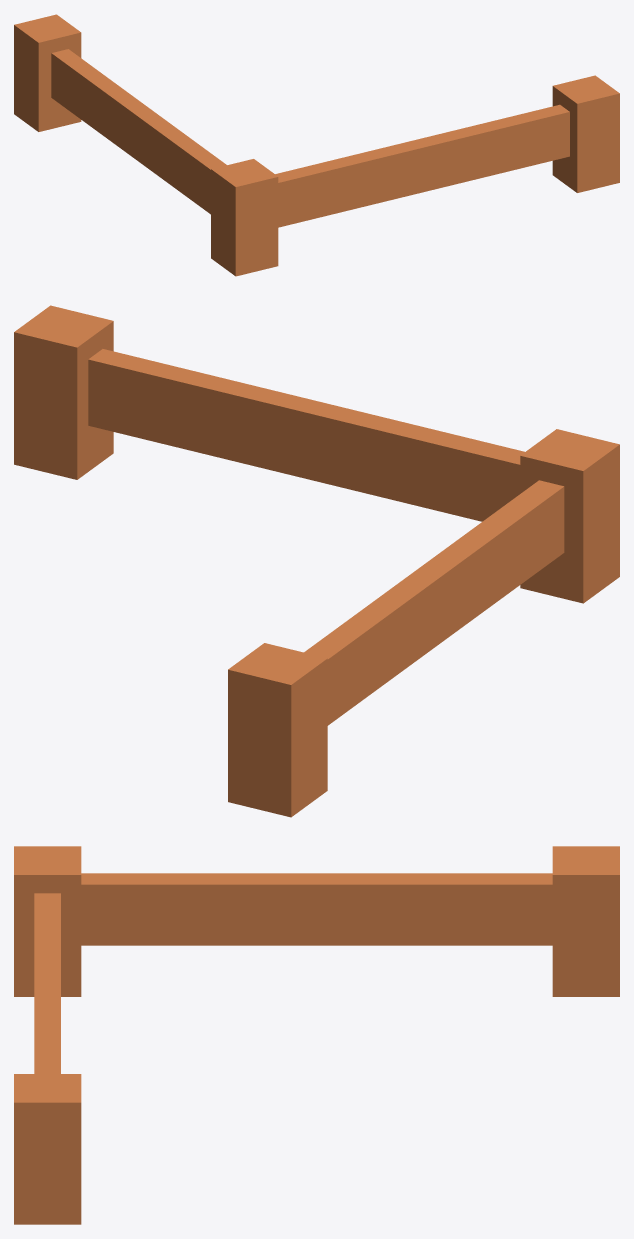
The model's file is fenceLowCorner.fbx.
The picture shows the model from 3 angles, top to bottom: view 1: azimuth 30°, elevation 25°; view 2: azimuth 150°, elevation 25°; view 3: azimuth 270°, elevation 25°; orthographic projection. The views are drawn at different scales.
Visible parts, largest first — view 1: fenceLowCorner; view 2: fenceLowCorner; view 3: fenceLowCorner.
Part boxes in pixels (x1,y1,x2,y2): fenceLowCorner: [14, 14, 619, 276]; fenceLowCorner: [14, 305, 619, 817]; fenceLowCorner: [14, 846, 619, 1224].
Bounding box in the file's own units: 9 × 2 × 9.
